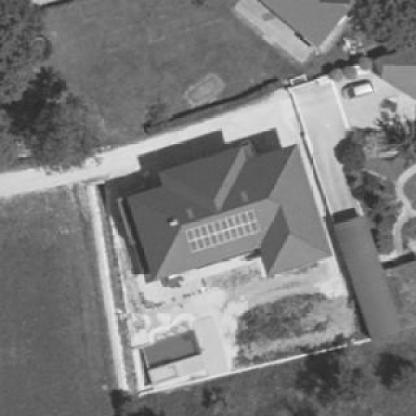solar-pv-panel: (186, 211, 259, 251), (320, 0, 349, 4)
